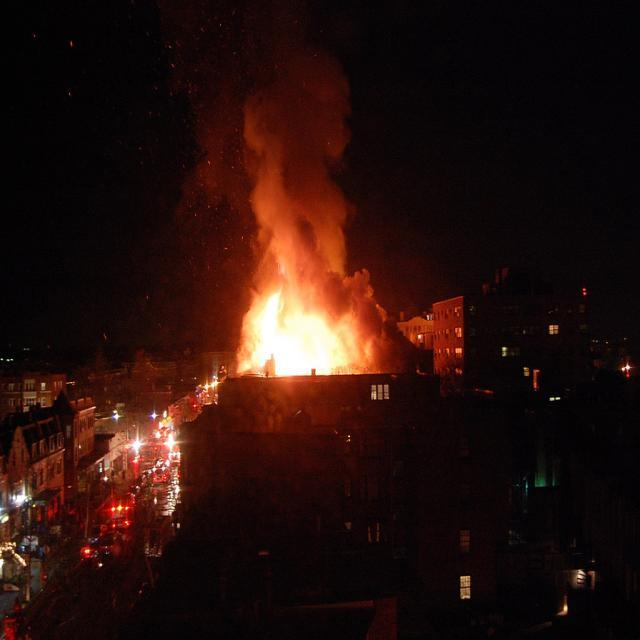Fire: (272, 322, 336, 368)
